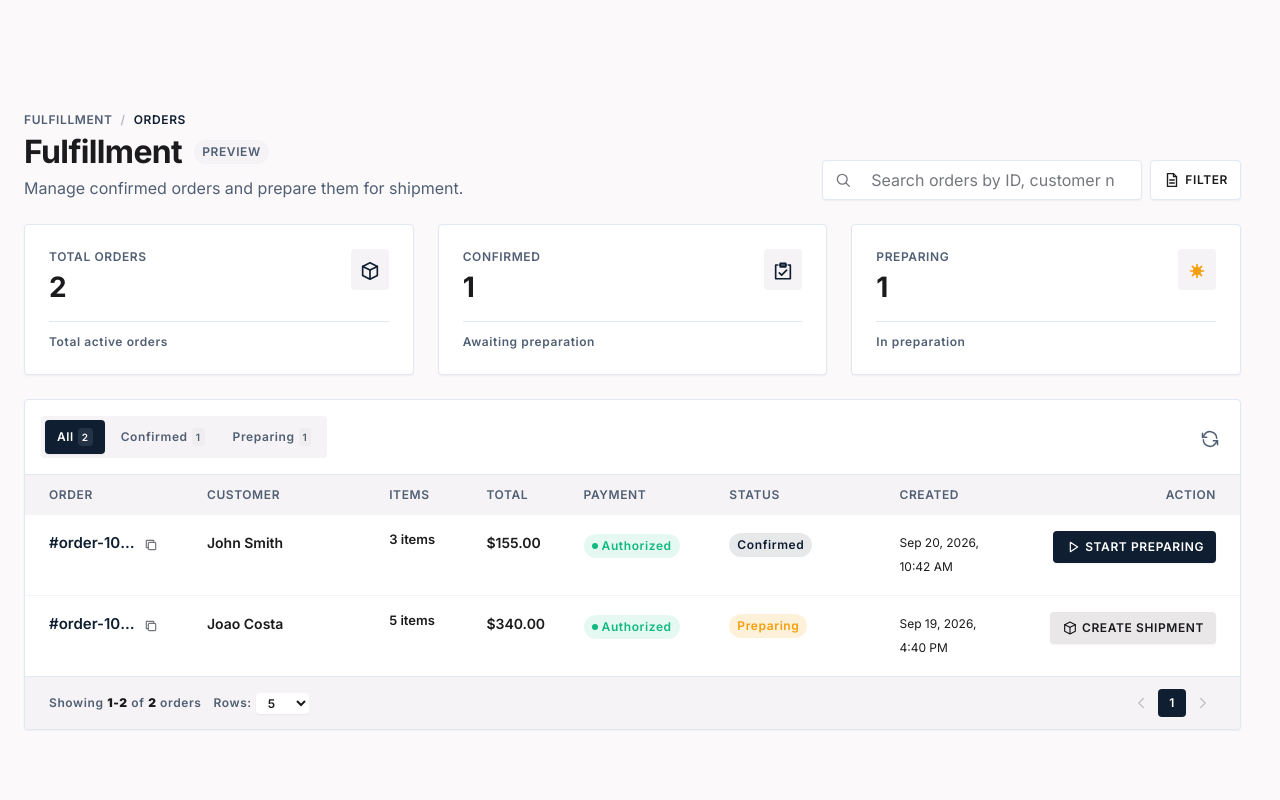
Test: FulfillmentQueue › shows the message returned by a failed fulfillment command
The image size is (1280, 800).
Click the button "Start Preparing" at (1135, 547), box [1053,531,1216,563]
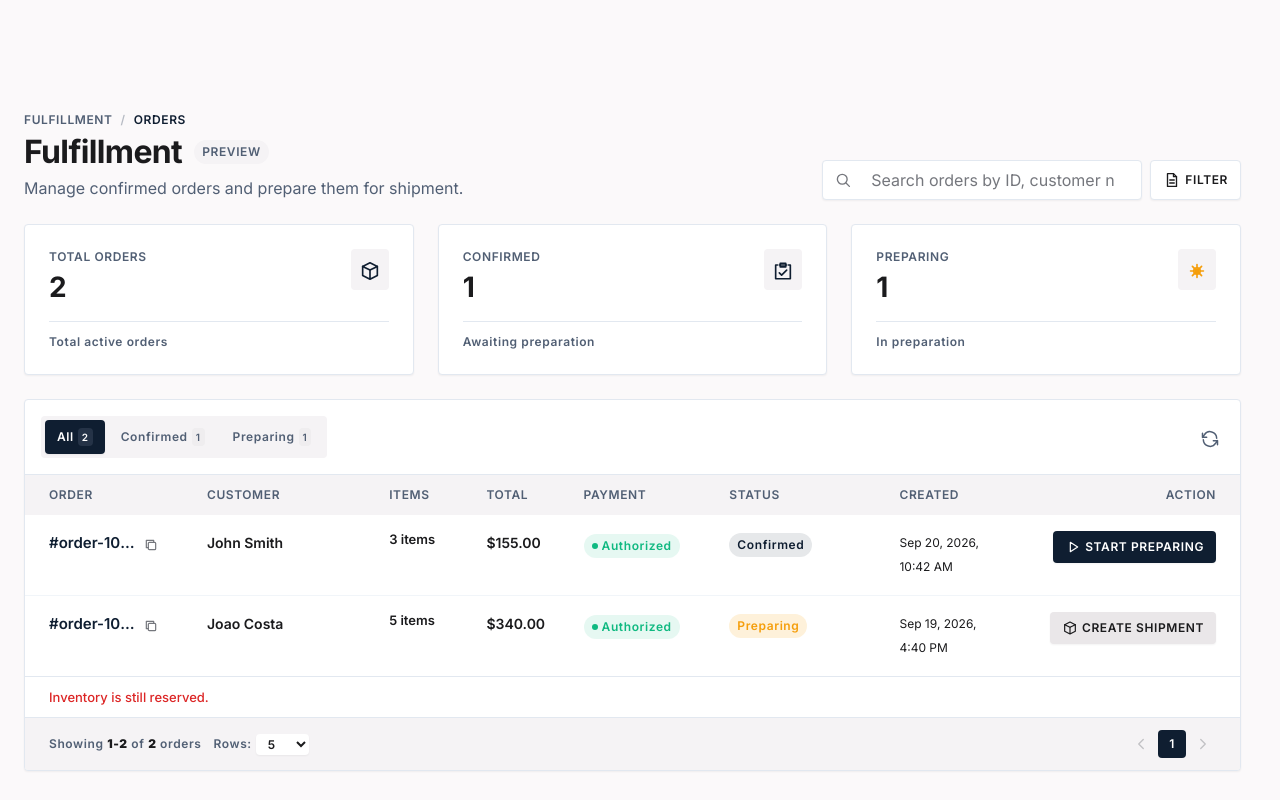
Check: the text "Inventory is still reserved." is shown, box [25,676,1240,717]
